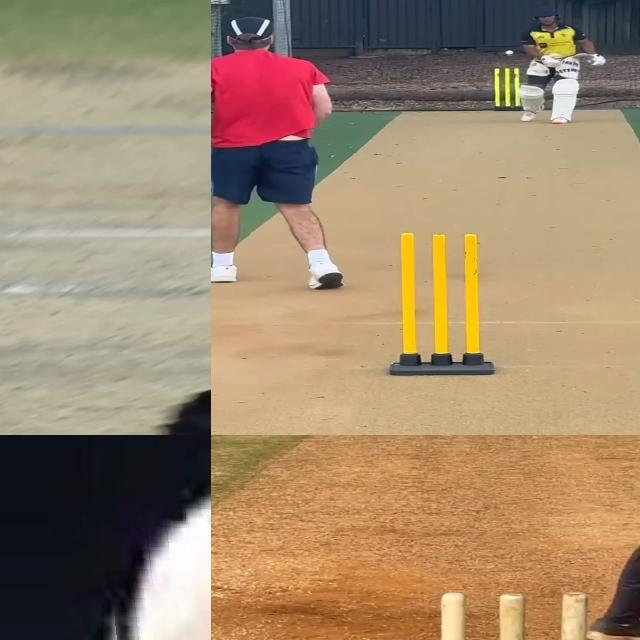Cricket ball: (98, 466, 211, 640), (504, 49, 516, 56)
Stumps: (382, 231, 497, 377), (438, 589, 587, 640), (491, 66, 524, 112)
